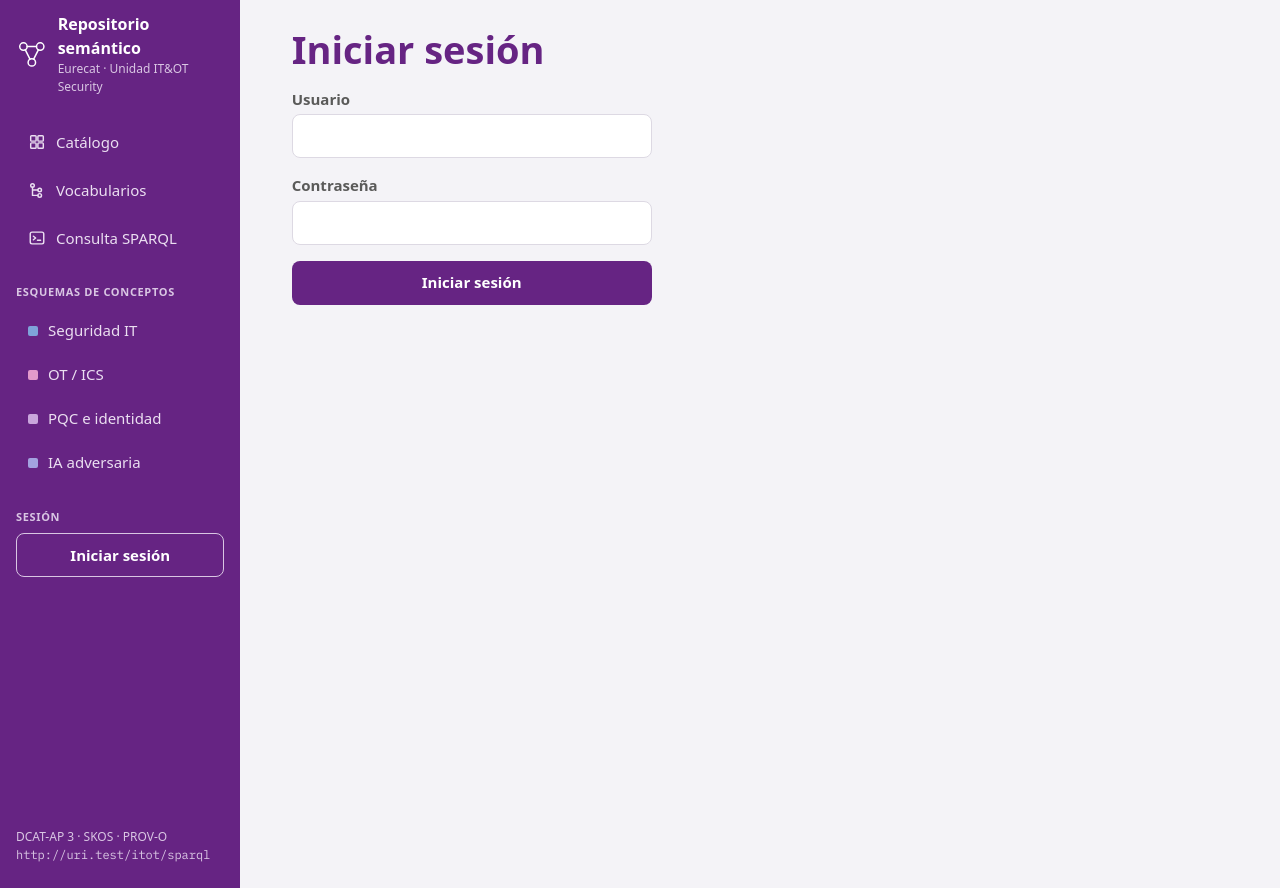
Test case: Navegador SKOS · CRUD del esquema (decisión 50) › el editor edita título y catálogo: PATCH solo con lo cambiado y aviso de traslado
In the field labelled "Usuario": {"x": 472, "y": 136} [292,114,652,158], type "usuario-prueba"
In the password field labelled "Contraseña": {"x": 472, "y": 223} [292,201,652,245], type "contrasena-prueba"
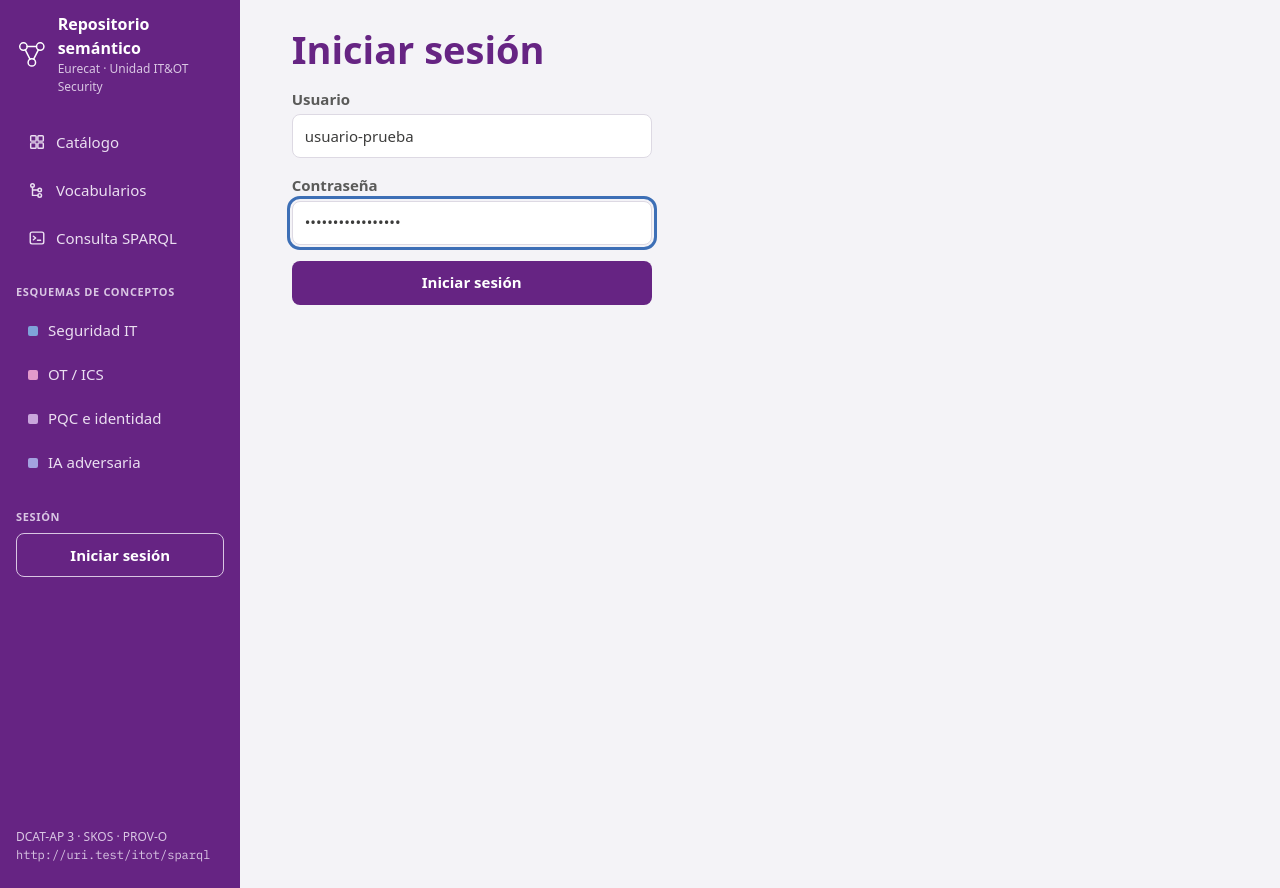
Click the button "Iniciar sesión": {"x": 472, "y": 283} [292,261,652,305]
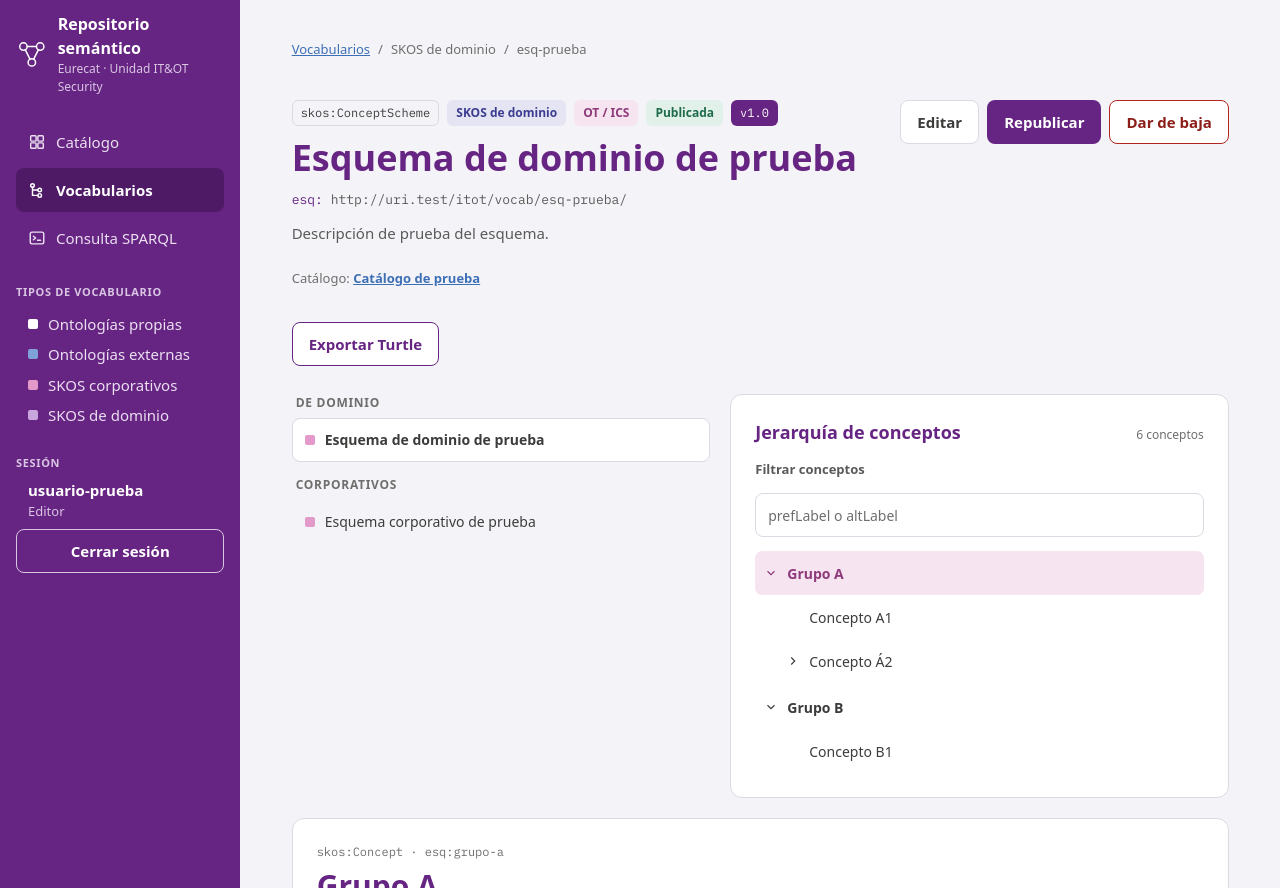
expect the button "Cerrar sesión" is shown: met, box [16,529,224,573]
expect the heading "Esquema de dominio de prueba" is shown: met, box [292,138,857,178]
Click the button "Editar": {"x": 940, "y": 122} [900,100,979,144]
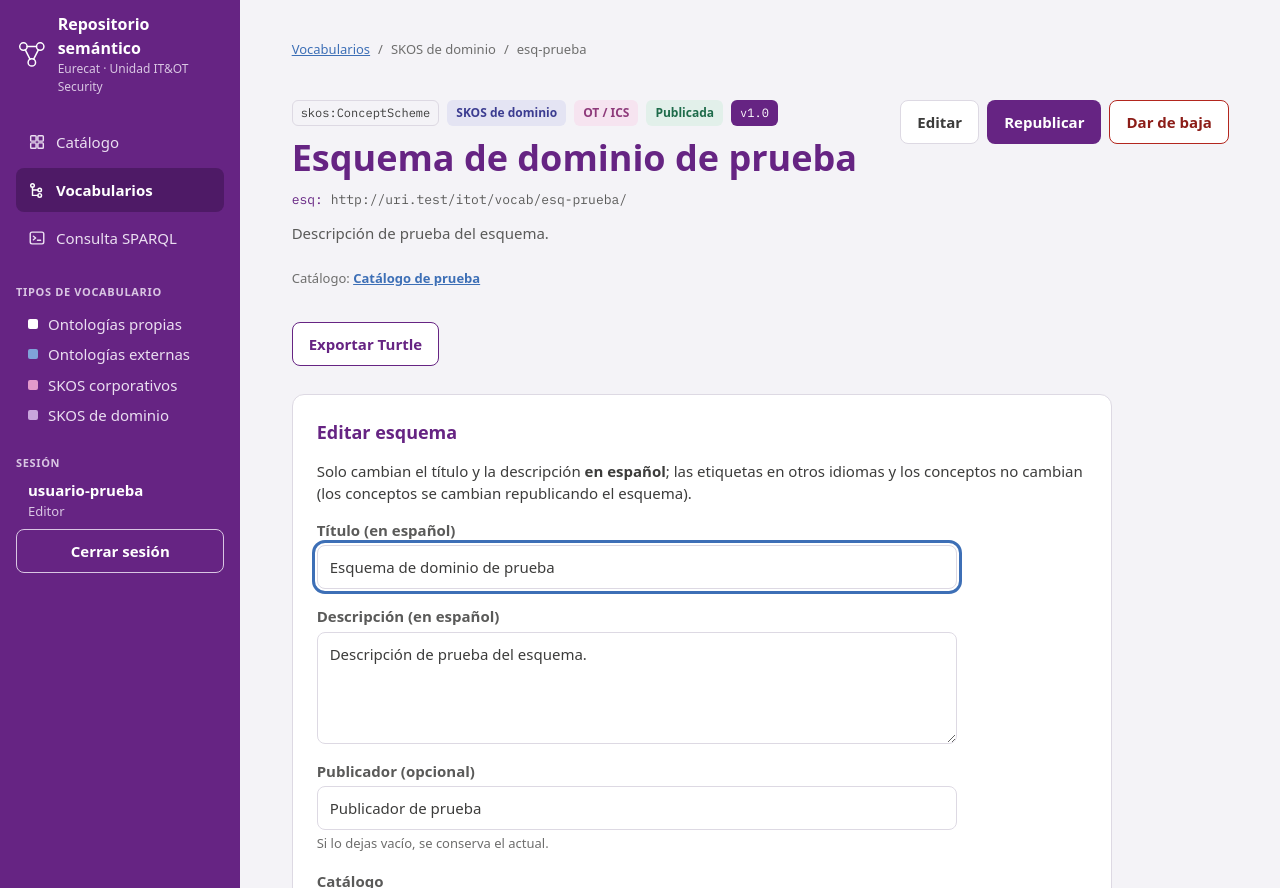
expect the text "en español" is shown: met, box [585,461,666,481]
expect the field labelled "Título (en español)" holds "Esquema de dominio de prueba": met
expect the field labelled "Publicador (opcional)" holds "Publicador de prueba": met, box [317,786,957,830]
Replace the text in the field labelled "Título (en español)" with "Nuevo título": {"x": 637, "y": 567} [317,545,957,589]
(page scrolled)
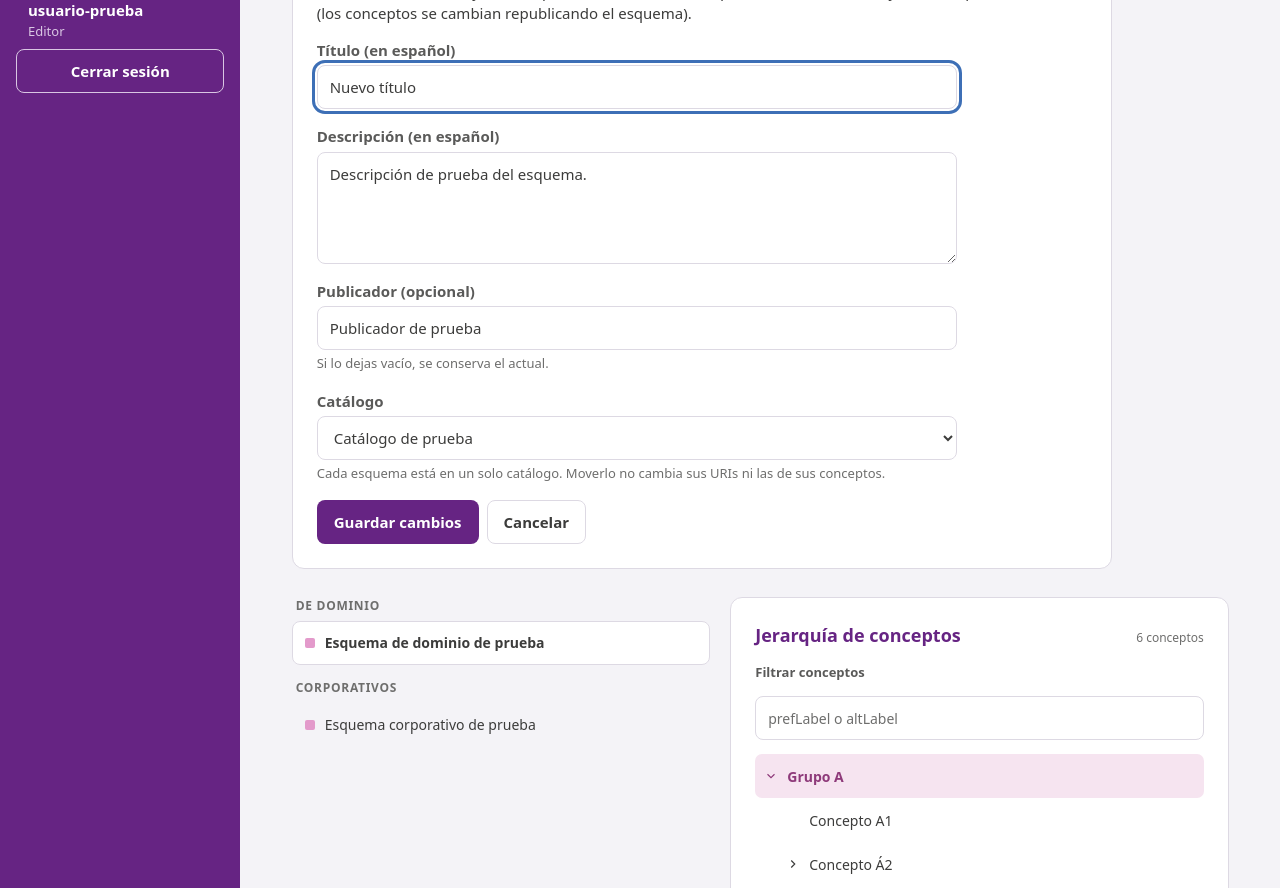
Select "Otro catálogo" in the dropdown labelled "Catálogo": {"x": 637, "y": 438} [317,416,957,460]
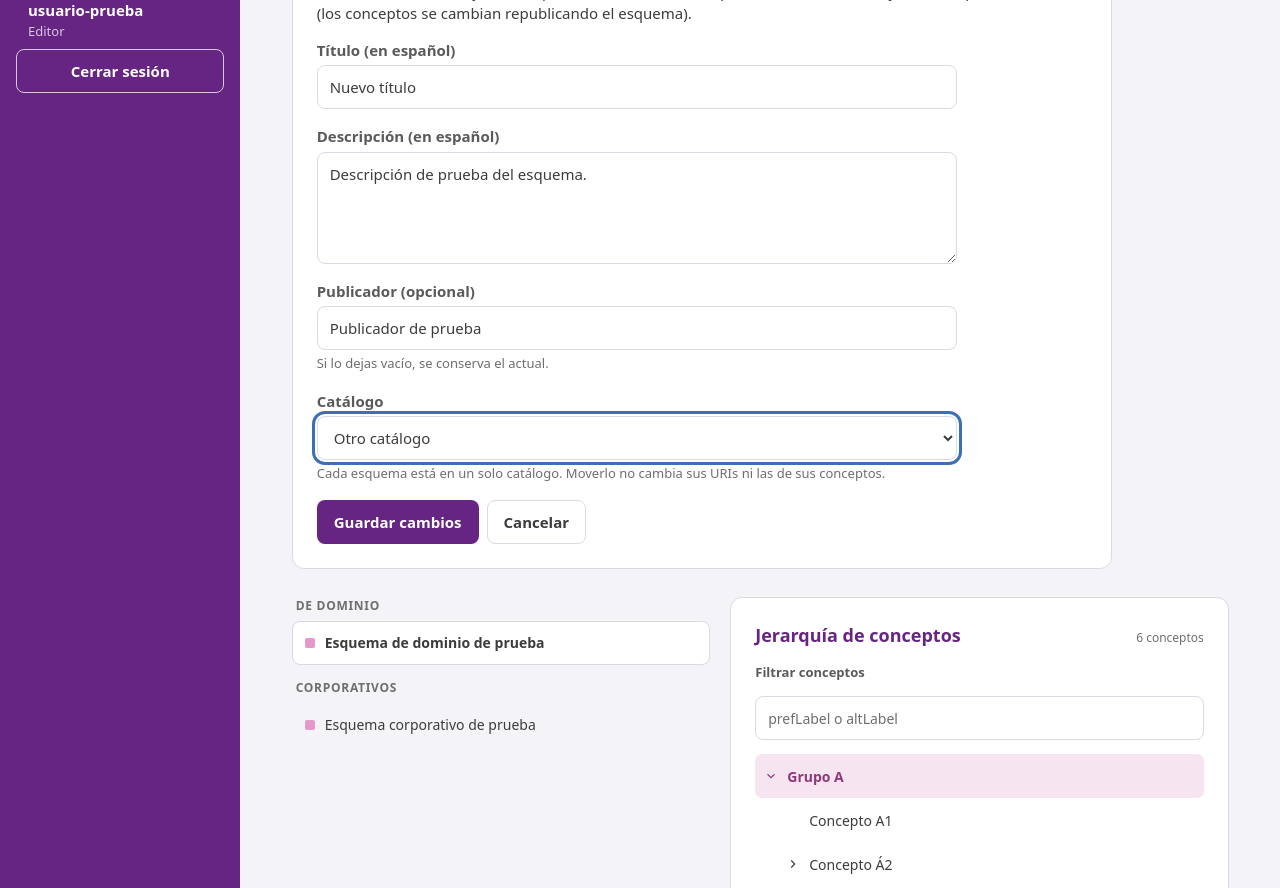
Click the button "Guardar cambios": {"x": 398, "y": 522} [317,500,479,544]
(page scrolled)
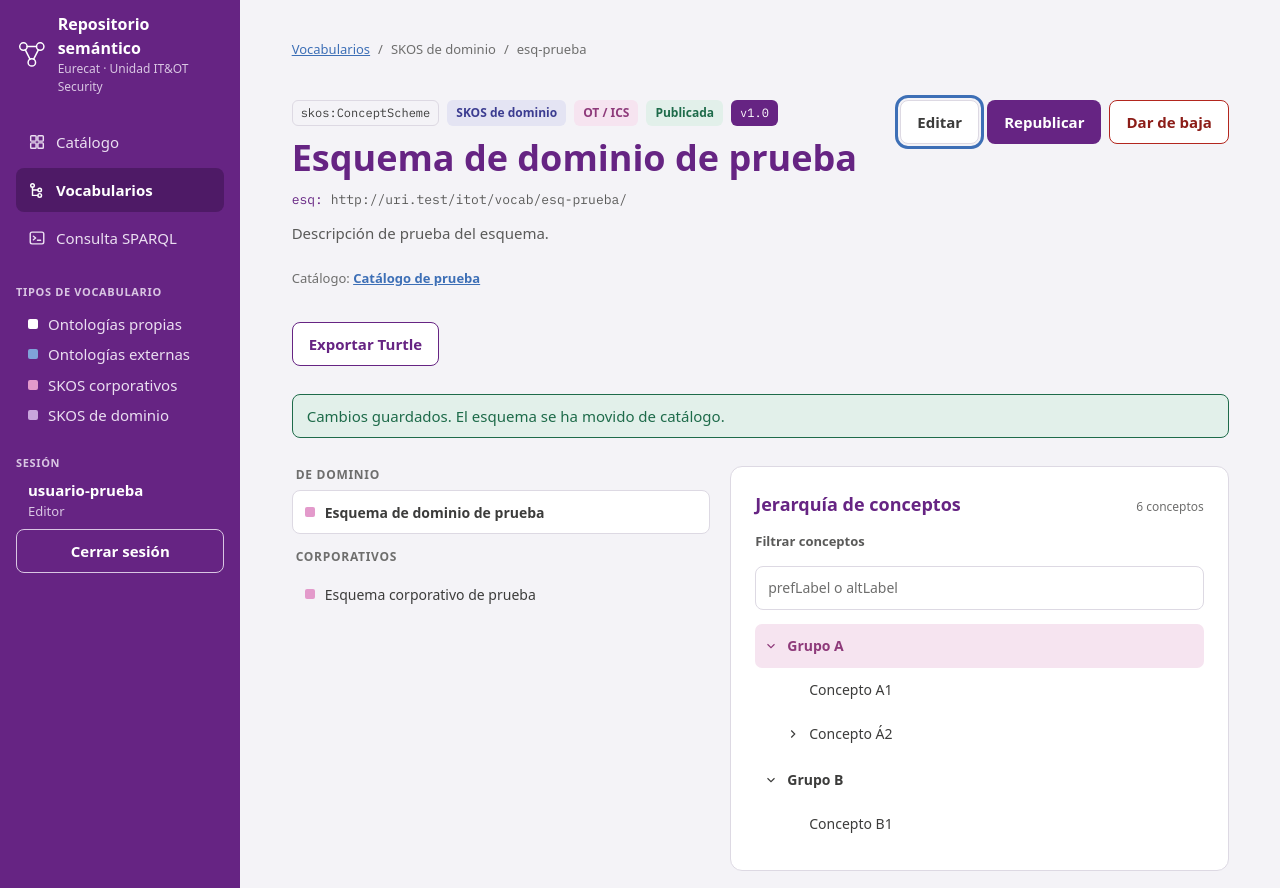
expect the text "Cambios guardados. El esquema se ha movido de catálogo." is shown: met, box [292,394,1229,438]
